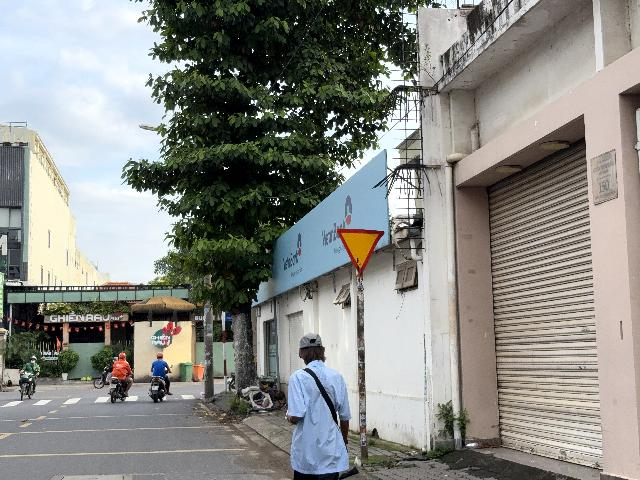giao-nhau-voi-duong-uu-tien: (336, 228, 385, 274)
